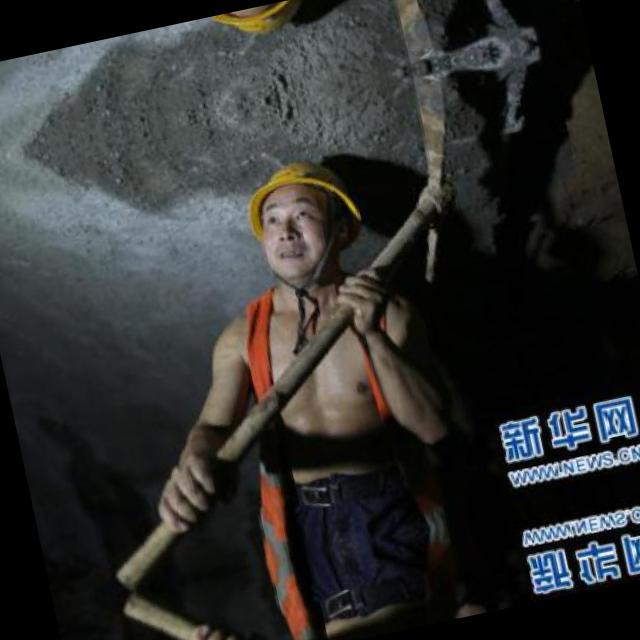helmet: (224, 135, 378, 298), (193, 0, 330, 61)
